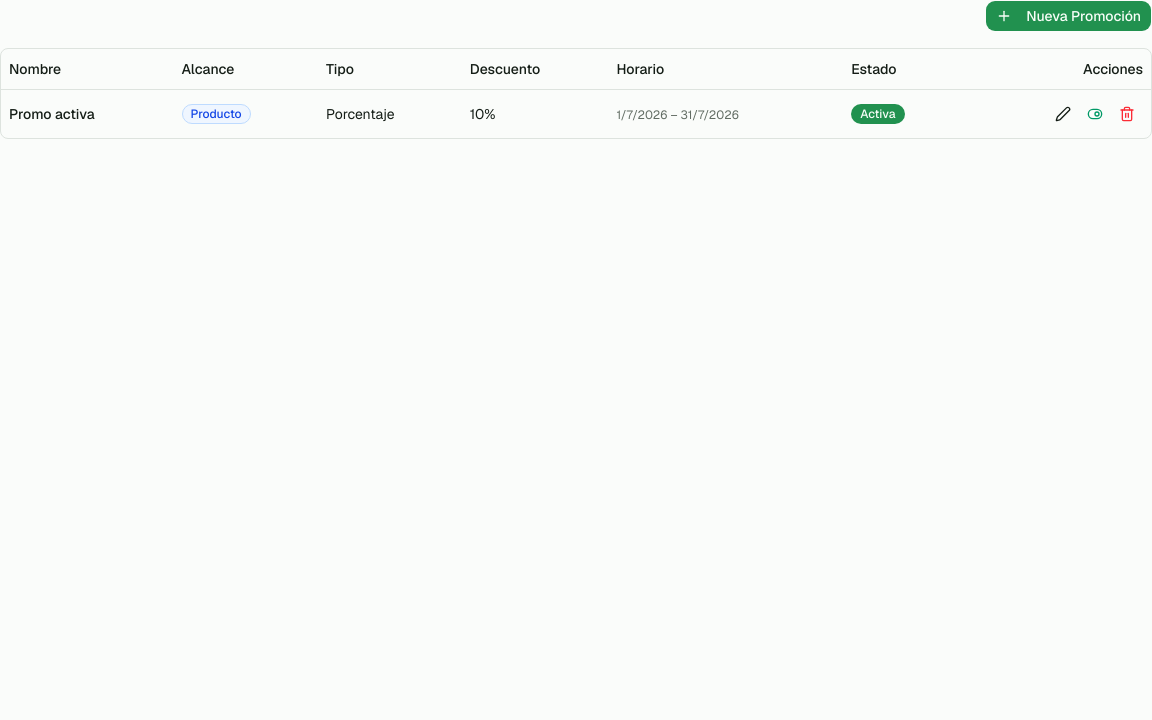
PromotionsShell › blocks creating a second active promotion for the same product
Expected: the text "Promo activa" is shown, [1, 89, 174, 138]
Click the button "Nueva Promoción": [1069, 16] box [985, 0, 1151, 32]
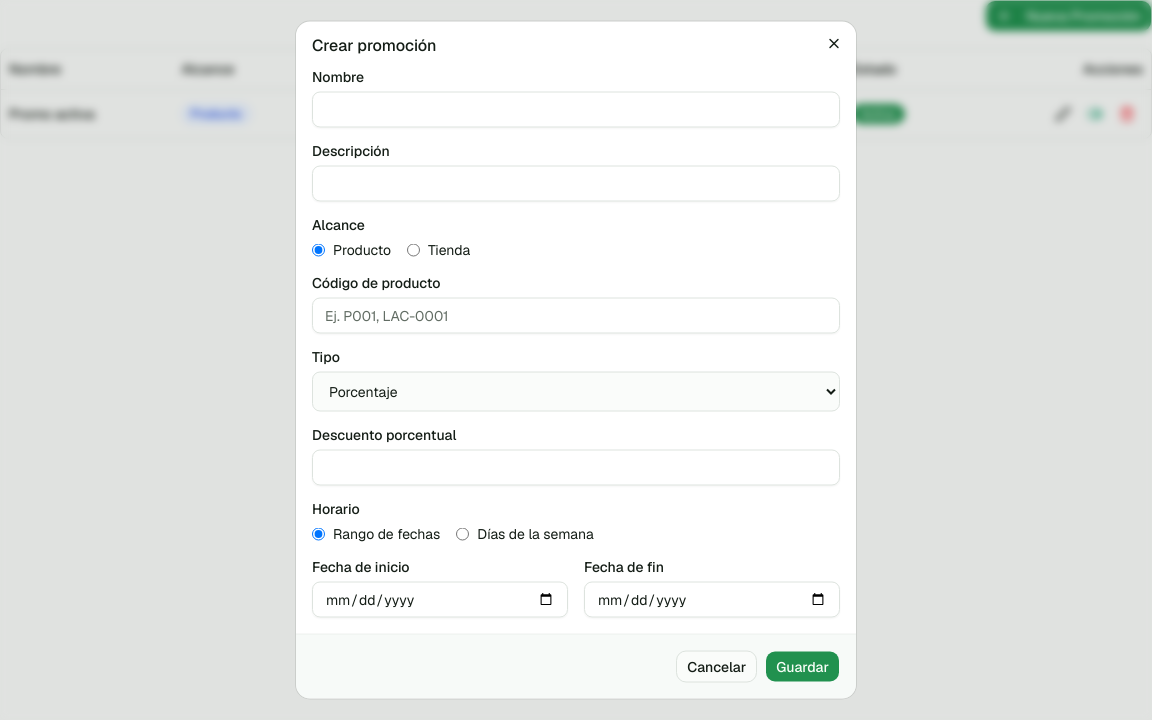
Now the dialog is shown, box [296, 22, 856, 698]
In the field labelled "Nombre": [576, 110] box [312, 92, 840, 128], type "Promo duplicada"
In the field labelled "Código de producto": [576, 316] box [312, 298, 840, 334], type "P001"
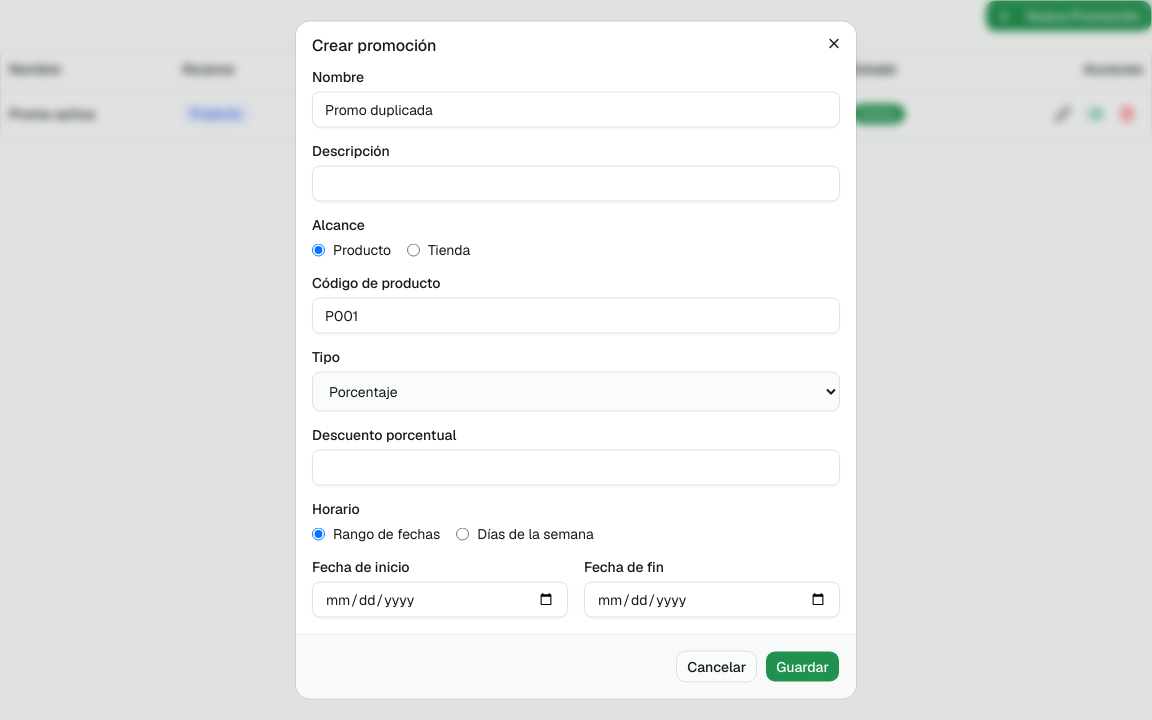
In the number field labelled "Descuento porcentual": [576, 468] box [312, 450, 840, 486], type "20"
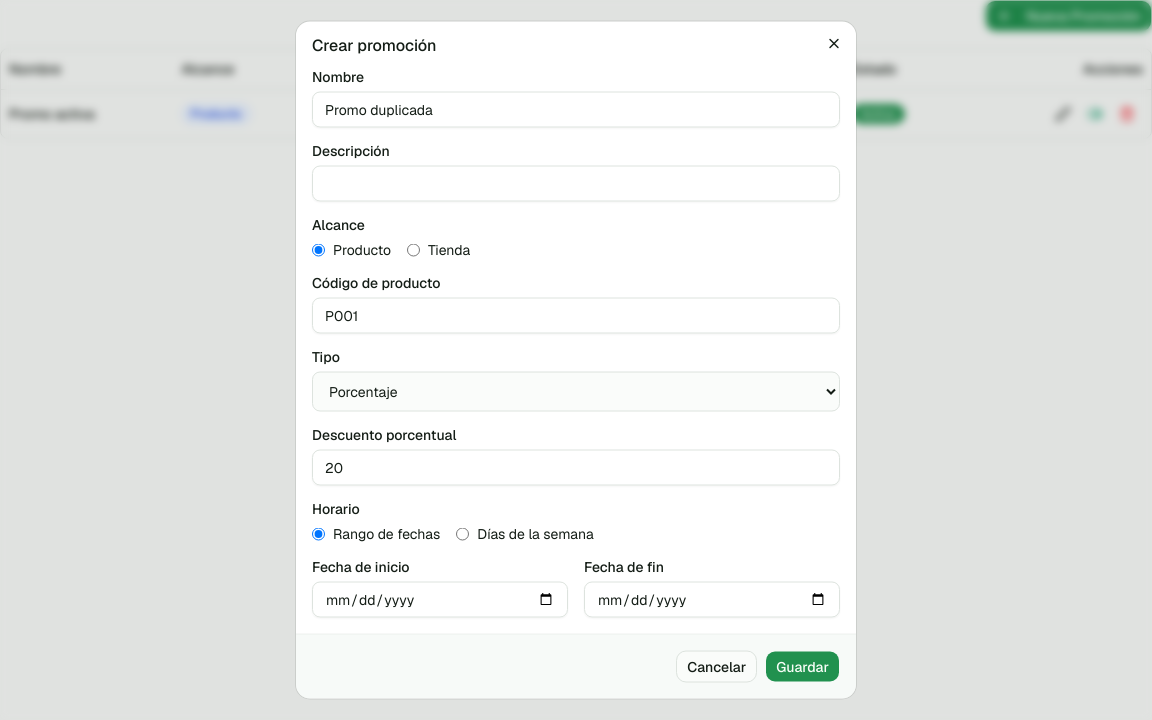
In the date field labelled "Fecha de inicio": [440, 600] box [312, 582, 568, 618], type "2026-09-01"
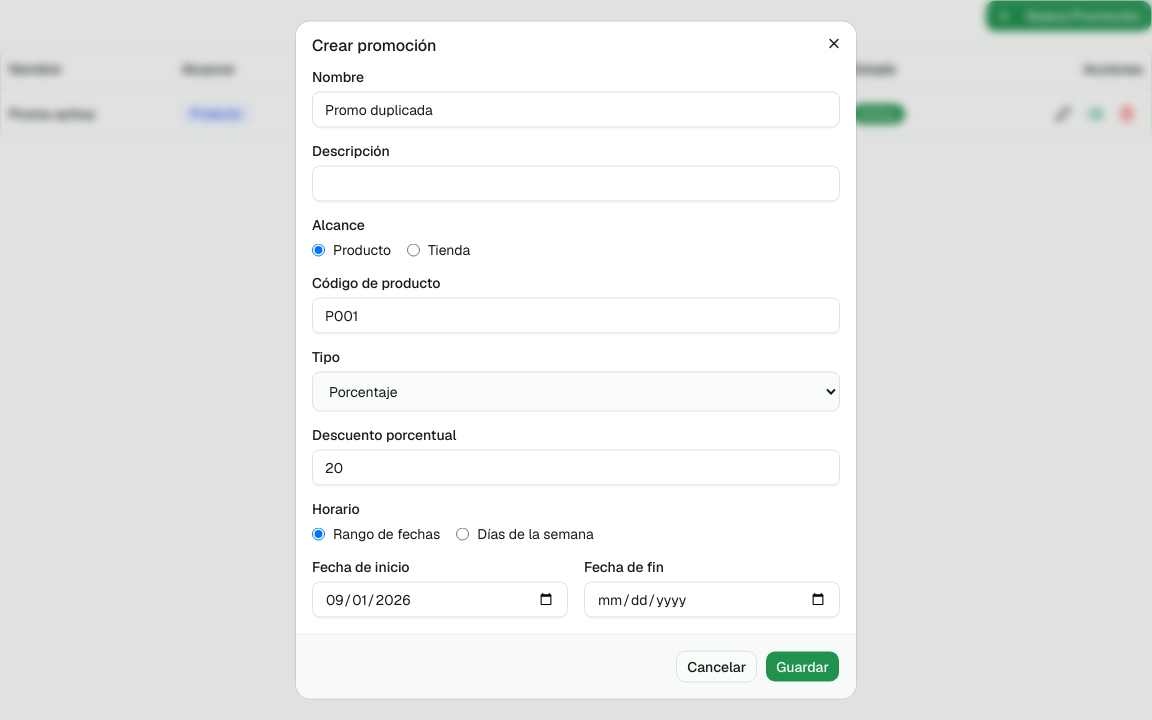
In the date field labelled "Fecha de fin": [712, 600] box [584, 582, 840, 618], type "2026-09-30"
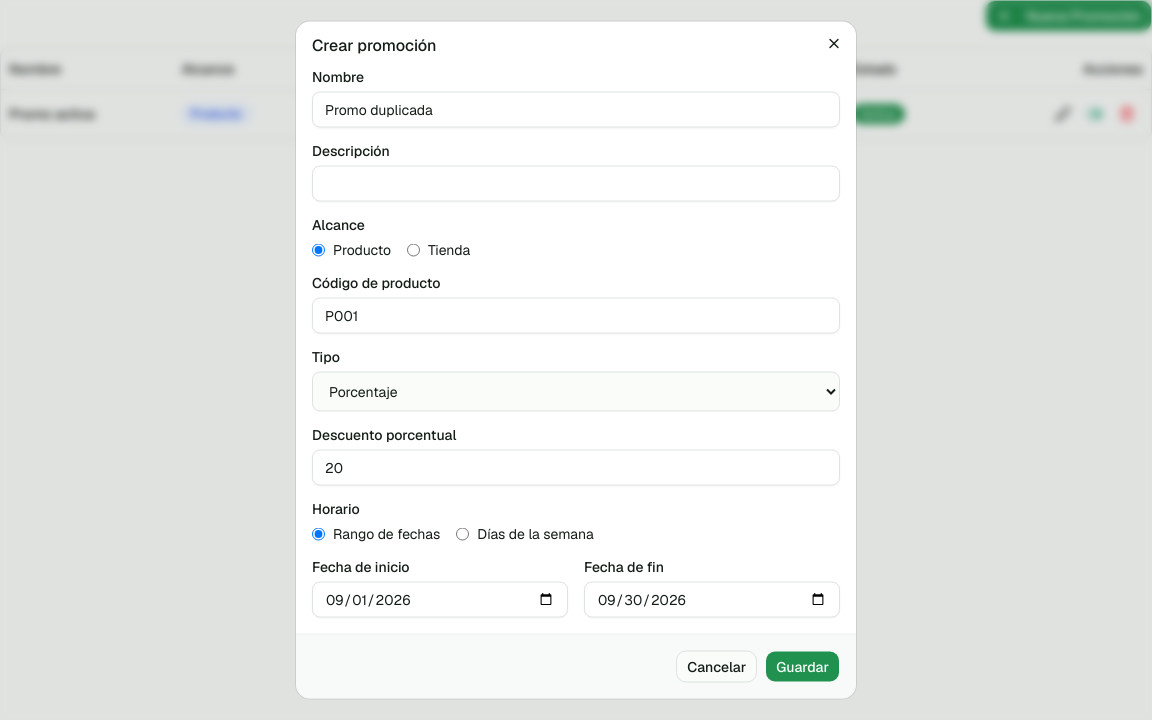
Click the button "Guardar": [803, 666] box [765, 650, 840, 682]
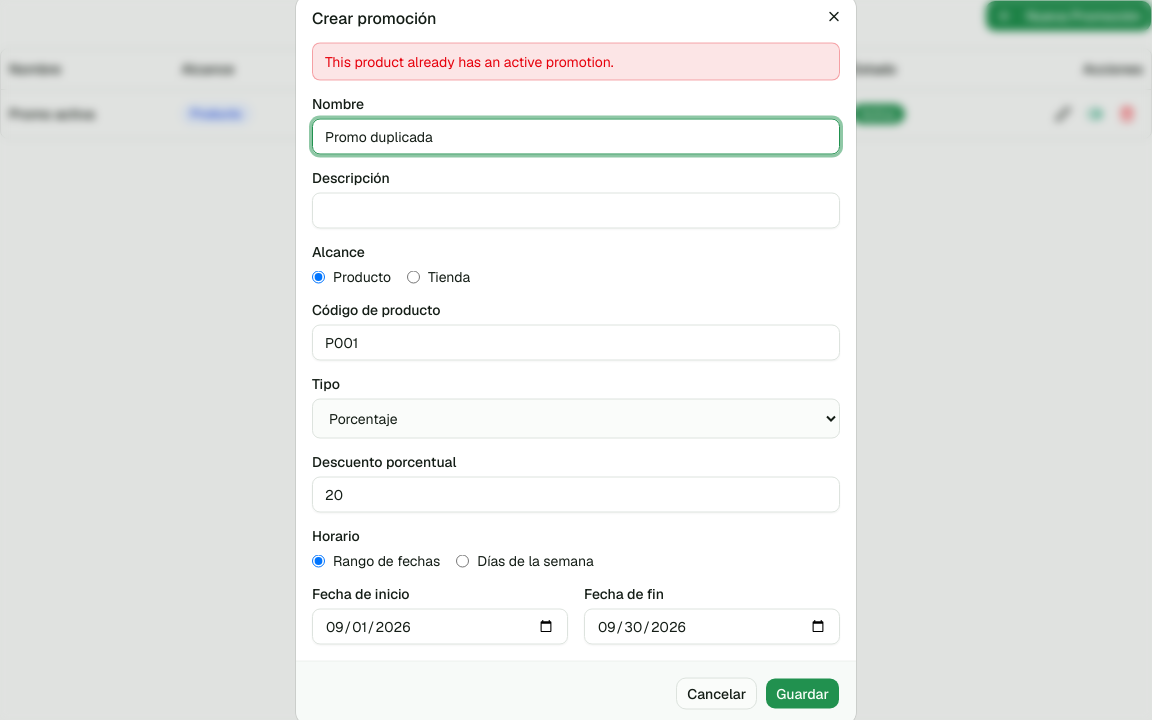
Now the message reads "This product already has an active promotion.", box [325, 52, 614, 70]
